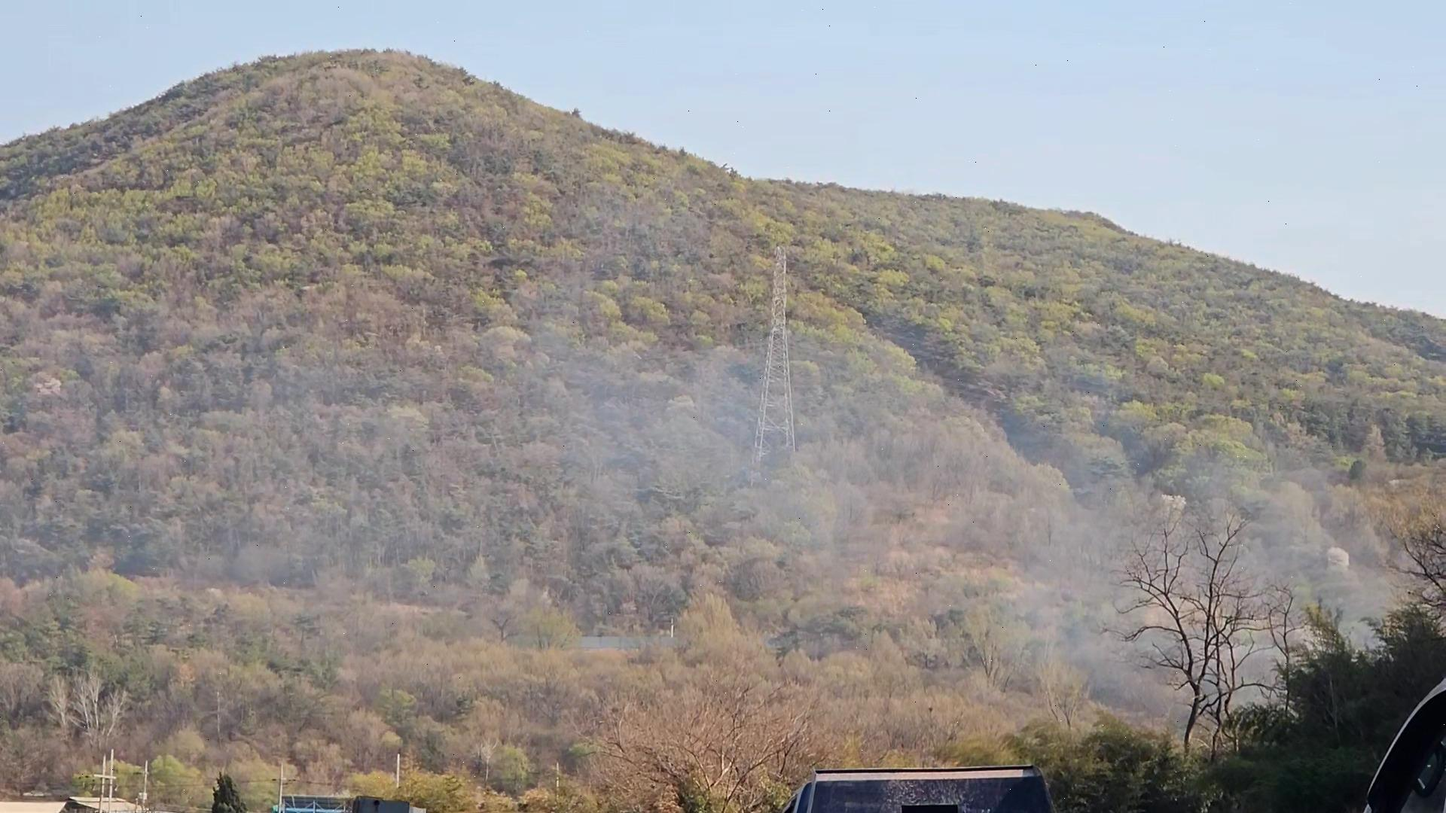smoke: (246, 283, 1400, 730)
